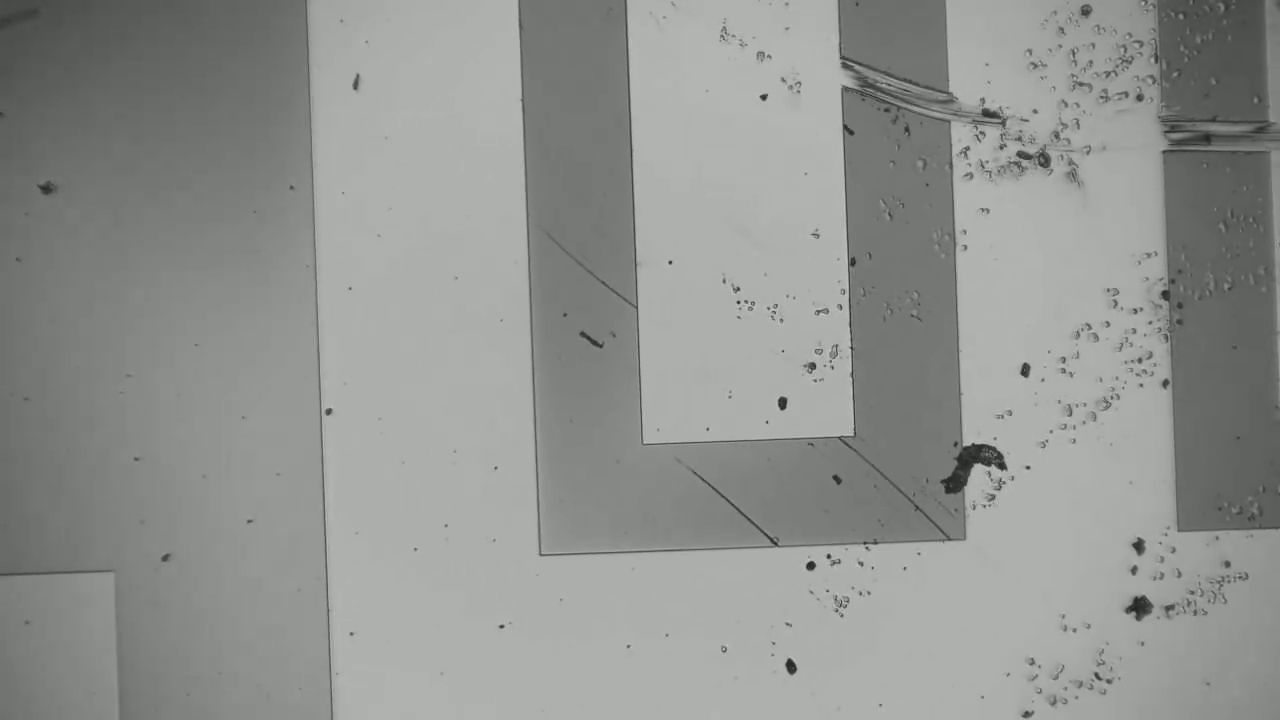Short_circuit: (817, 36, 982, 138), (1138, 92, 1280, 184)
scratch: (845, 449, 947, 538), (677, 464, 784, 543), (540, 227, 634, 314)
